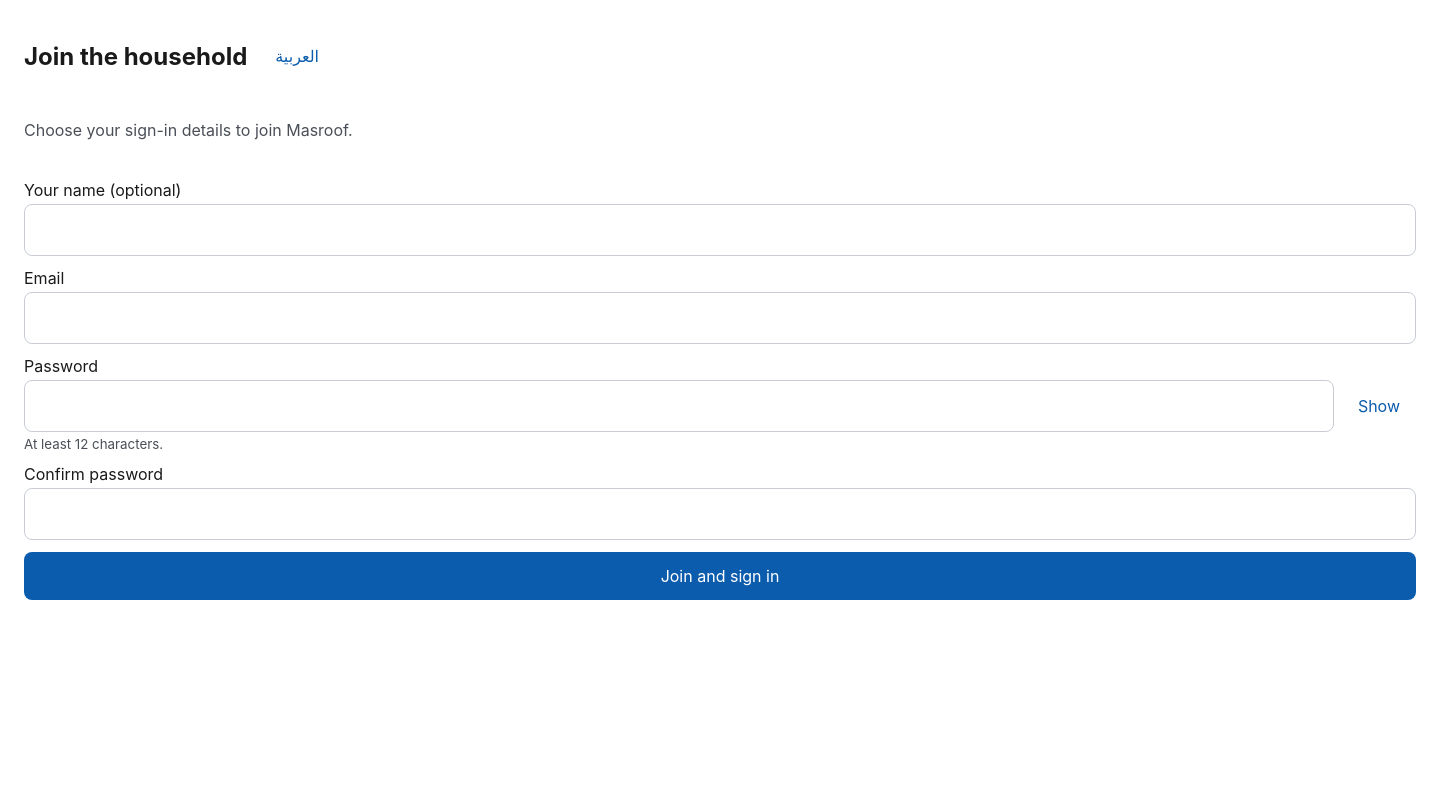
Test: REQ-SEC-061 Accept invite page › REQ-SEC-061 rate limiting shows the wait time
This screenshot has width=1440, height=810.
In the field labelled "Email": {"x": 720, "y": 318} [24, 292, 1416, 344], type "mai@example.com"
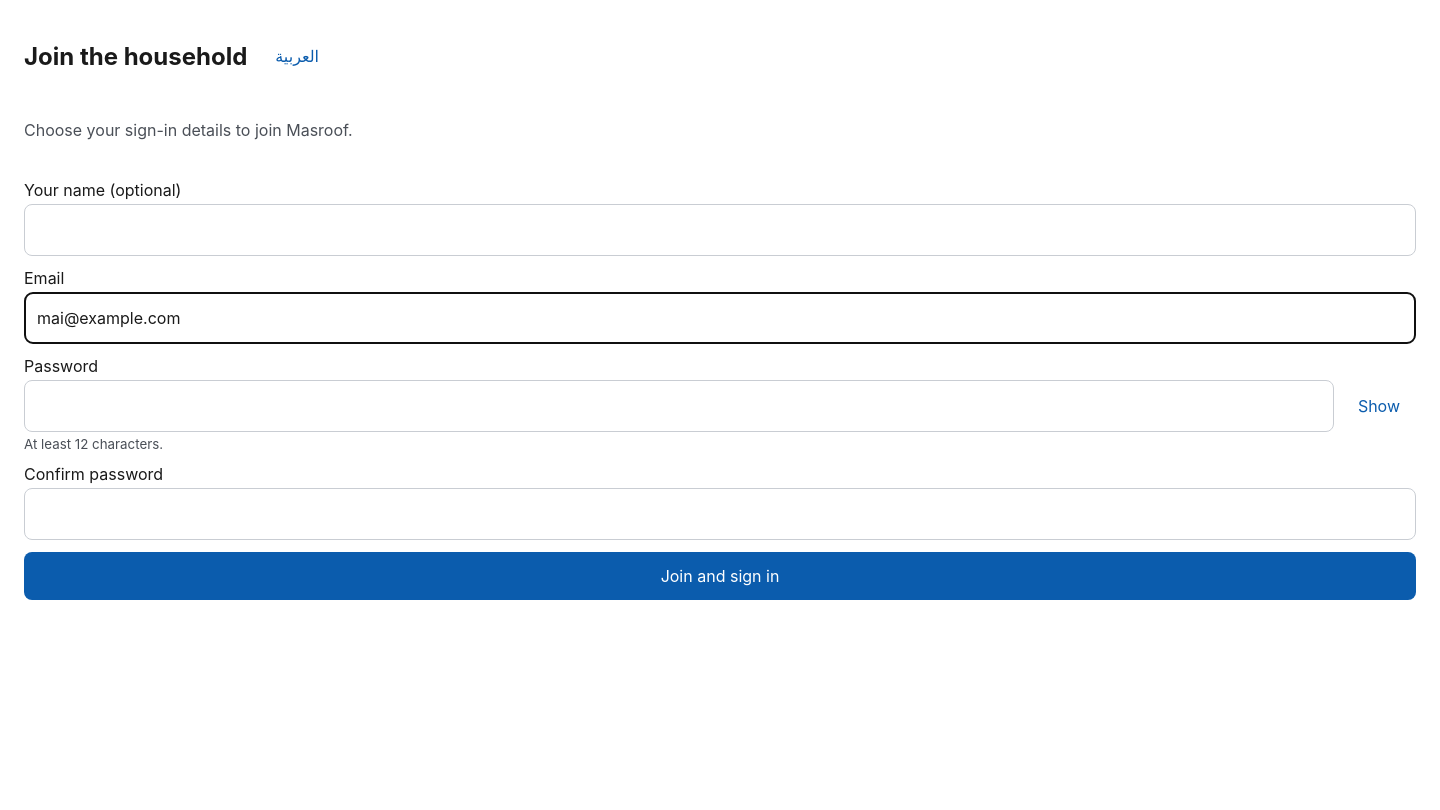
In the password field labelled "Password": {"x": 679, "y": 406} [24, 380, 1334, 432], type "a long enough pass"
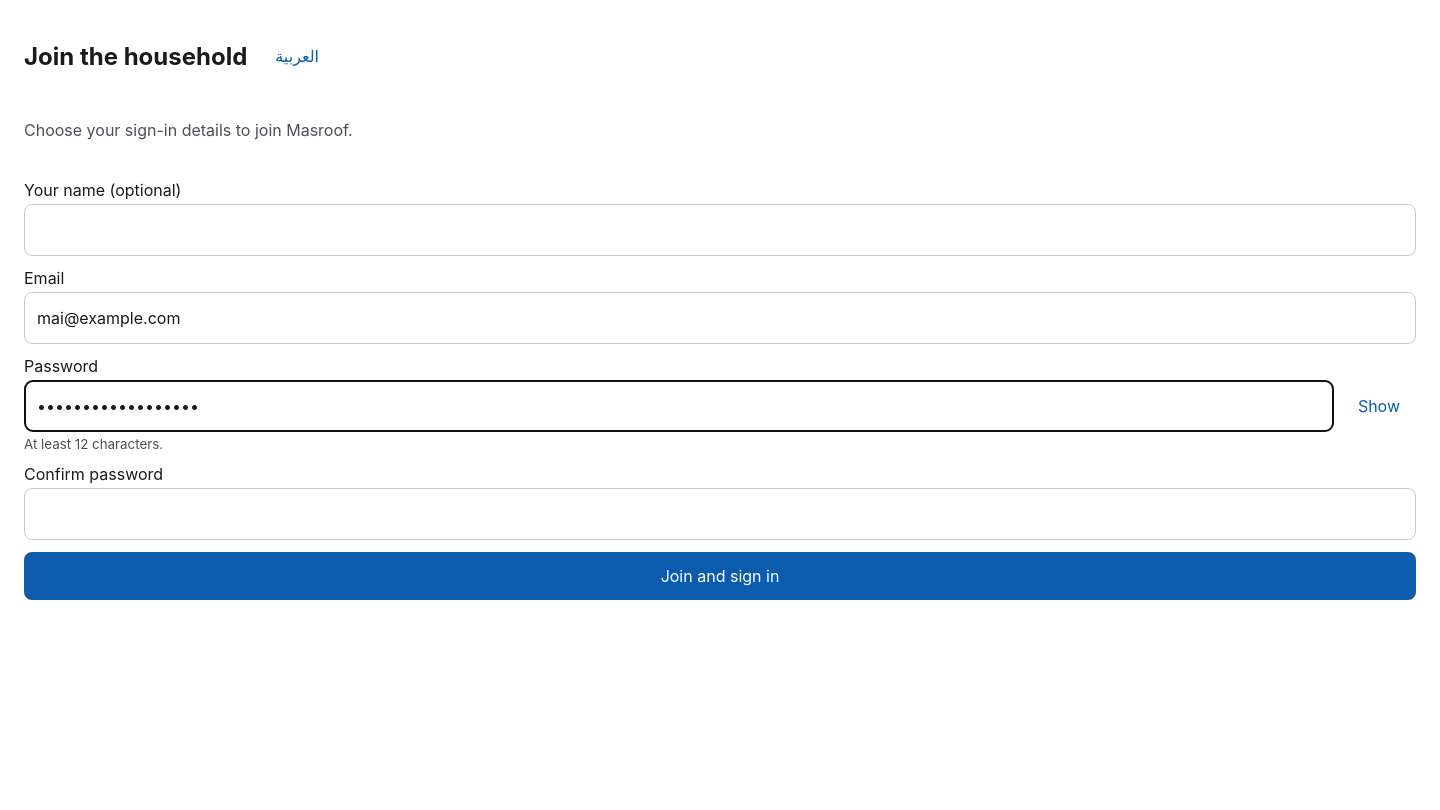
In the password field labelled "Confirm password": {"x": 720, "y": 514} [24, 488, 1416, 540], type "a long enough pass"
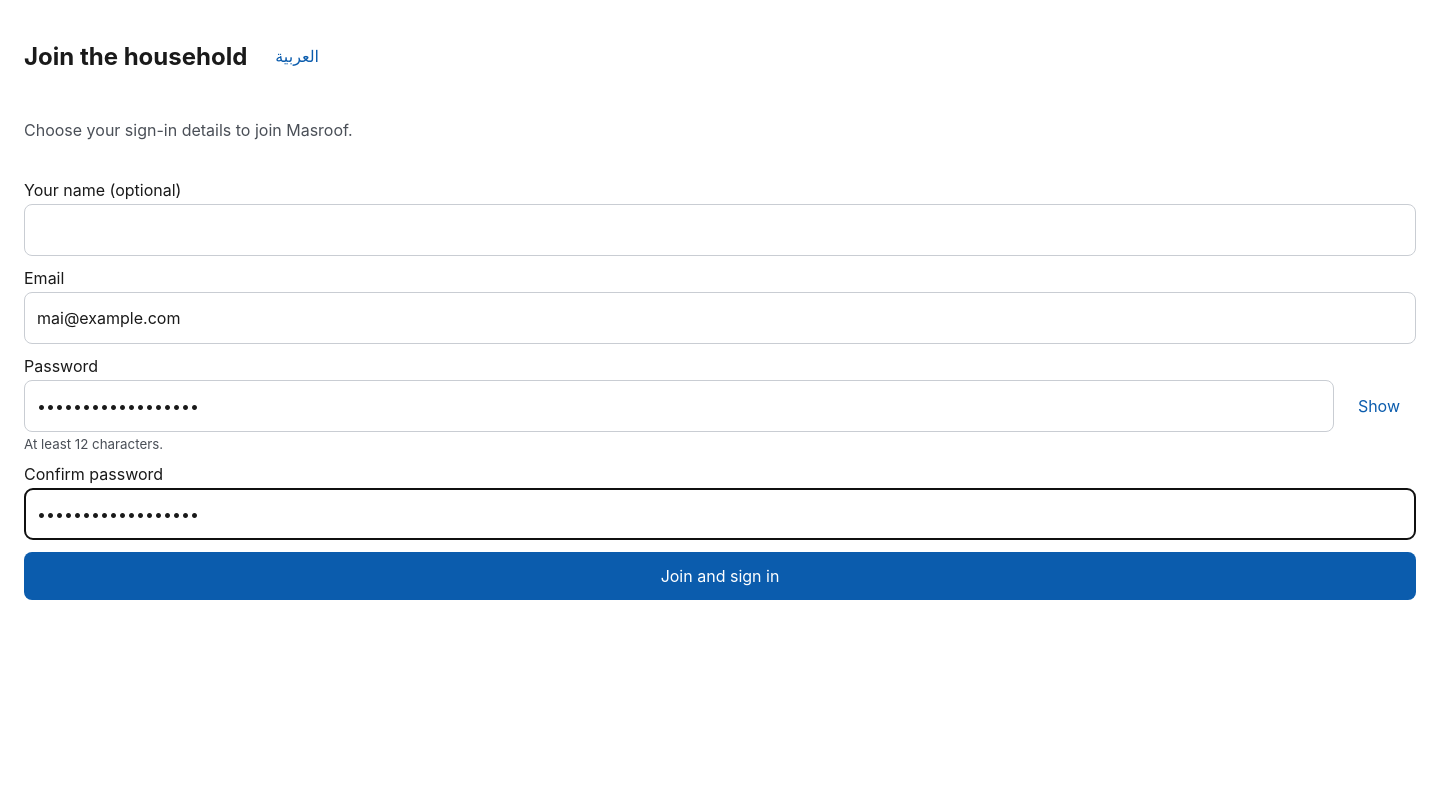
Click the button "Join and sign in": {"x": 720, "y": 576} [24, 552, 1416, 600]
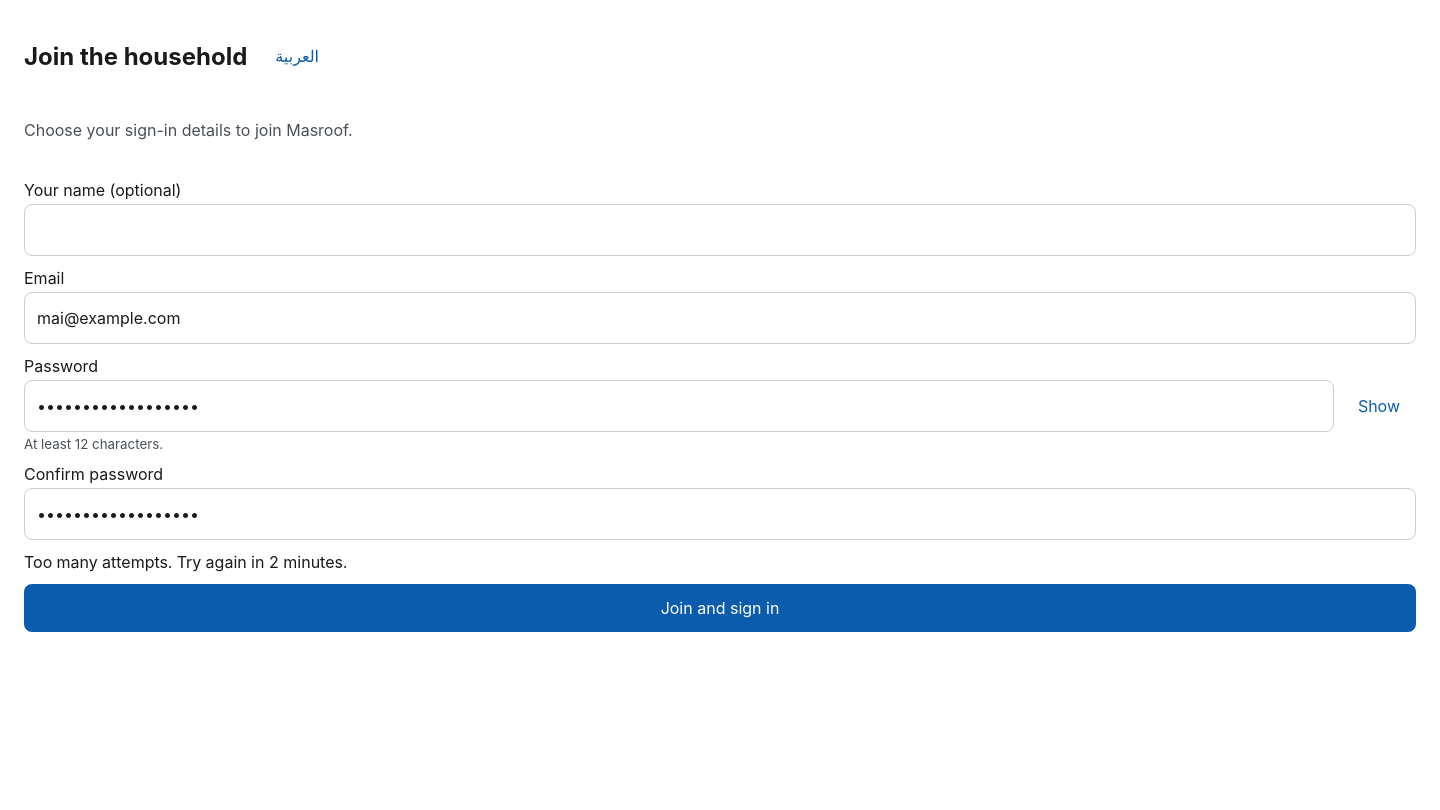
Check: the message shows "Try again in 2 minutes", box [24, 552, 347, 572]
